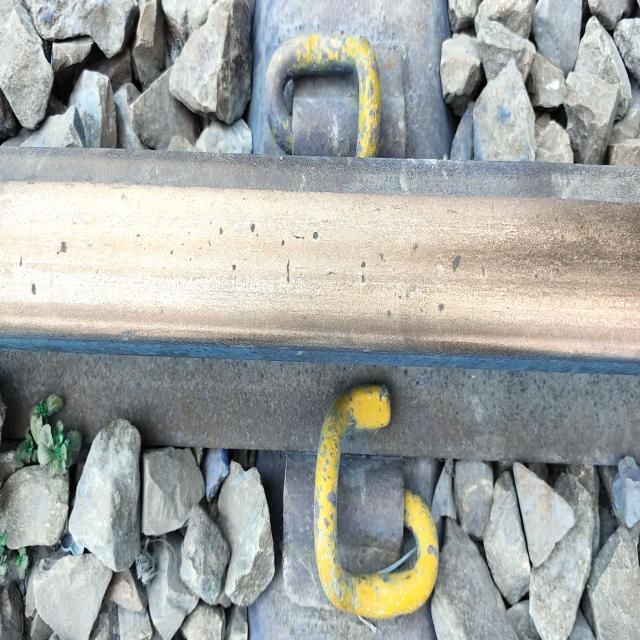Good Fasteners: (272, 364, 457, 635), (262, 26, 431, 183)
